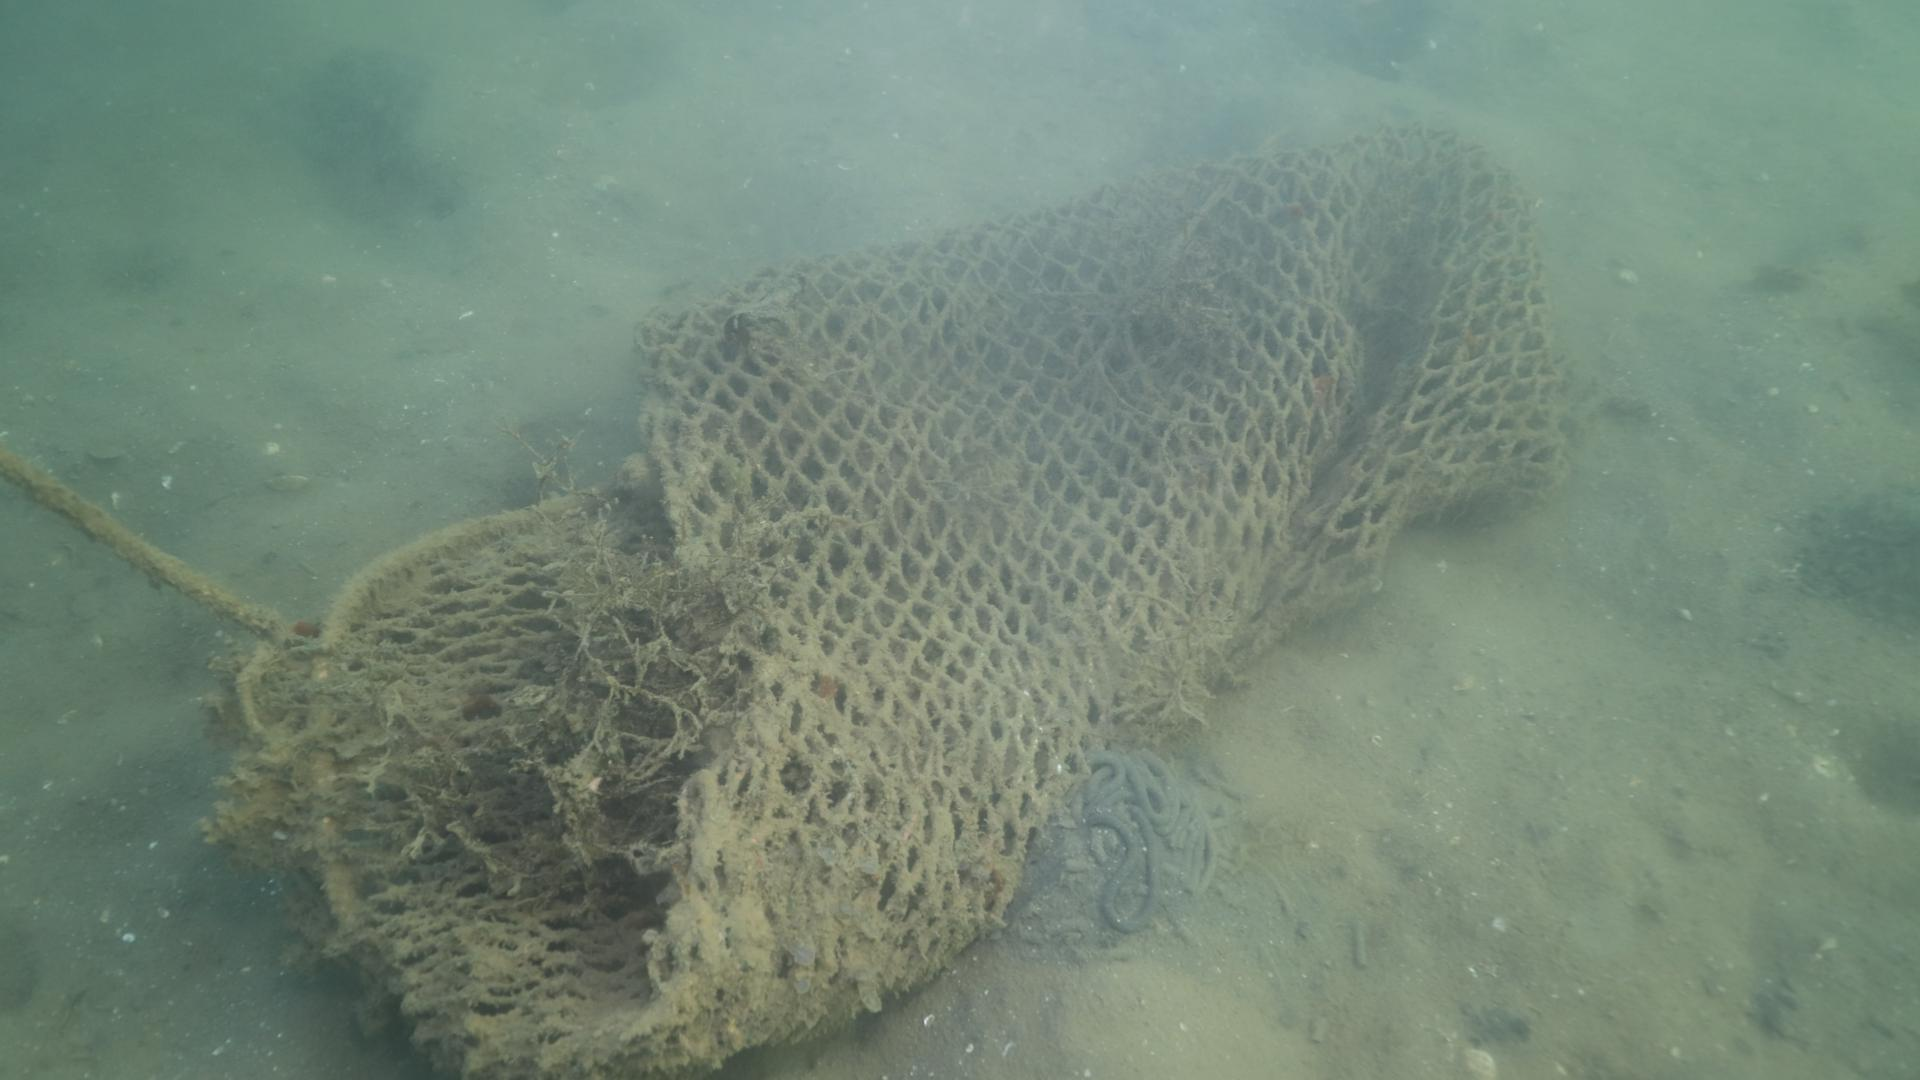fish net: (322, 120, 1585, 1073)
